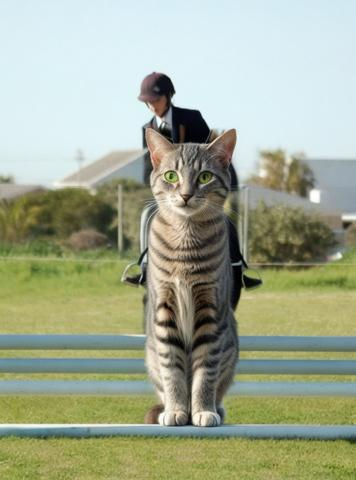cat: (142, 128, 239, 426)
person: (120, 72, 266, 290)
